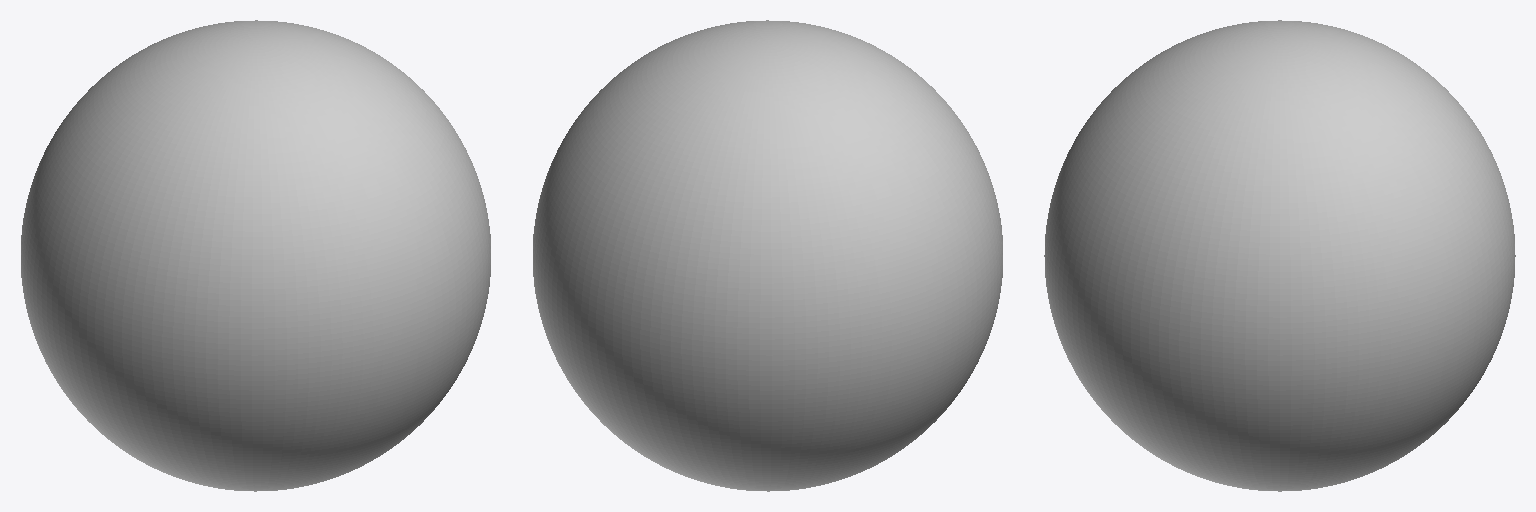
File: earth.obj
3 renders of one model, left to right at view 1: azimuth 30°, elevation 25°; view 2: azimuth 150°, elevation 25°; view 3: azimuth 270°, elevation 25°, orthographic.
Parts seen in each view (by area): view 1: Plane_Plane.001; view 2: Plane_Plane.001; view 3: Plane_Plane.001.
Part boxes in pixels (left/top/right/bottom): Plane_Plane.001: left=21, top=20, right=490, bottom=491; Plane_Plane.001: left=533, top=20, right=1002, bottom=491; Plane_Plane.001: left=1044, top=20, right=1515, bottom=491.
Bounding box in the file's own units: 2 × 2 × 2.